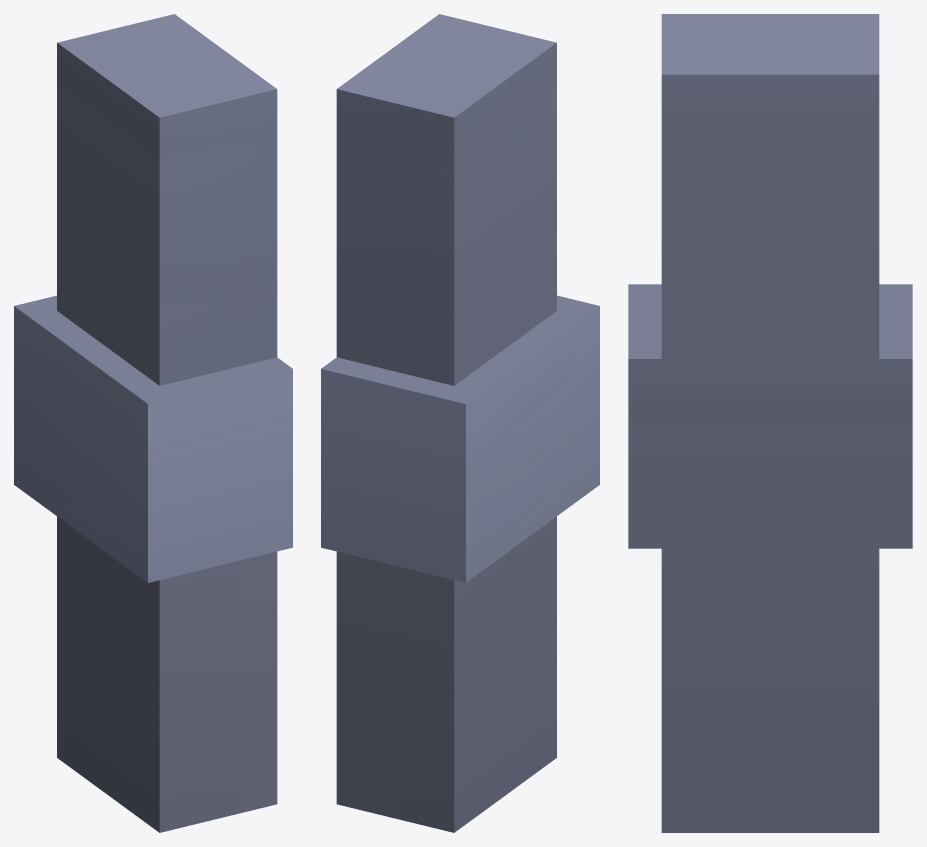
Rendered from chimney.fbx.
3 views of the same model, side by side, from view 1: azimuth 30°, elevation 25°; view 2: azimuth 150°, elevation 25°; view 3: azimuth 270°, elevation 25° (orthographic). The views are drawn at different scales.
Visible parts, largest first — view 1: chimney; view 2: chimney; view 3: chimney.
Part boxes in pixels (box(x1,y1,x2,y2)): chimney: box(14, 14, 292, 832); chimney: box(321, 14, 599, 832); chimney: box(628, 14, 912, 832).
Bounding box in the file's own units: 0.2119 × 0.34 × 1.
